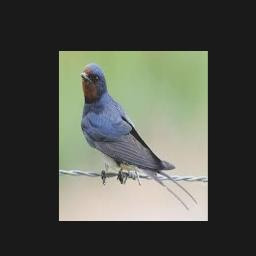Swallow: (80, 63, 198, 211)
